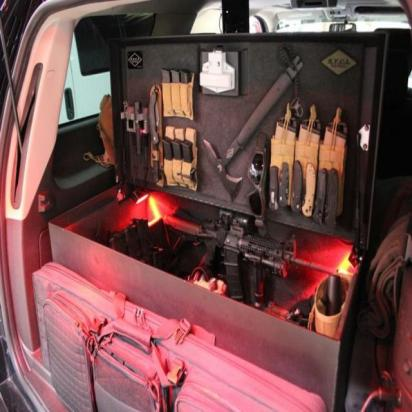Gun: (164, 209, 350, 320)
